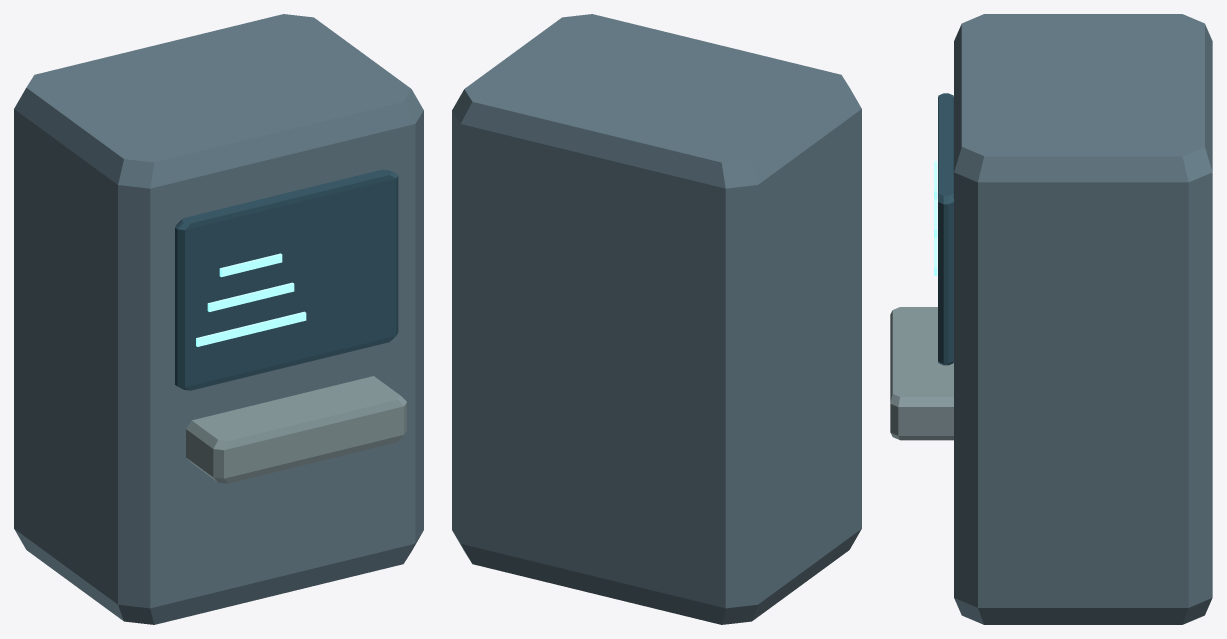
File: SM_ELY_PROP_003_OracleTerminal.glb
3 renders of one model, left to right at view 1: azimuth 30°, elevation 25°; view 2: azimuth 150°, elevation 25°; view 3: azimuth 270°, elevation 25°, orthographic.
Visible parts, largest first — view 1: SM_ELY_PROP_003_OracleTerminal; view 2: SM_ELY_PROP_003_OracleTerminal; view 3: SM_ELY_PROP_003_OracleTerminal.
Boxes of the visible parts, x1,y1,x2,y2 form: SM_ELY_PROP_003_OracleTerminal: [14, 14, 423, 624]; SM_ELY_PROP_003_OracleTerminal: [452, 14, 861, 624]; SM_ELY_PROP_003_OracleTerminal: [890, 14, 1212, 624].
Bounding box in the file's own units: 0.9 × 1.3 × 0.81.
